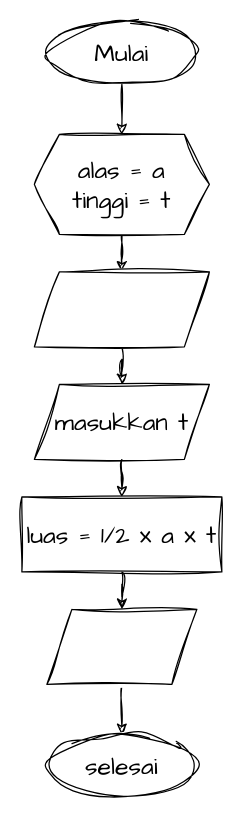
Some shapes in this 244 by 819 pixel diagram are drawn without their labels. The centre of each missing label's shape, as x and y in pixels:
"luas" belongs at (121,646).
"masukkan a" belongs at (121,309).
